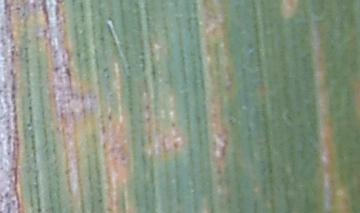tarspot: (40, 1, 49, 27), (53, 1, 63, 24), (172, 139, 183, 151), (2, 1, 10, 16), (24, 120, 35, 130), (99, 124, 108, 135), (63, 66, 71, 78), (96, 197, 106, 204), (53, 65, 60, 72), (170, 121, 176, 129), (107, 113, 113, 121), (101, 66, 109, 72), (105, 73, 111, 80)
